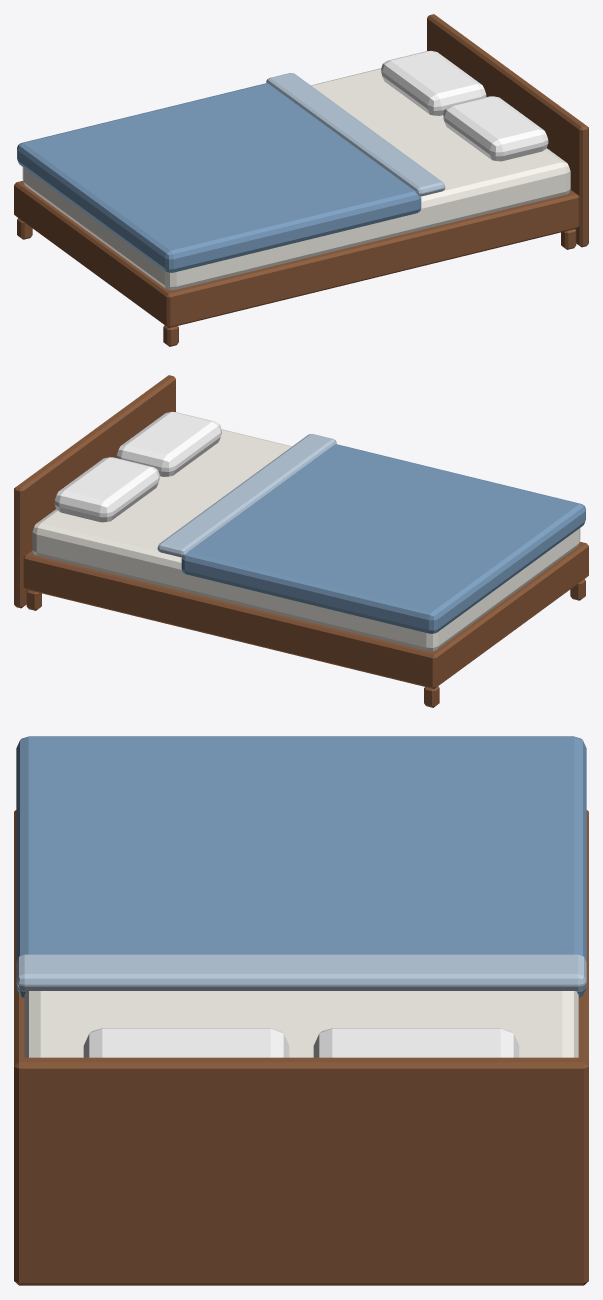
Rendered from double_bed.glb.
The picture shows the model from 3 angles, top to bottom: view 1: azimuth 30°, elevation 25°; view 2: azimuth 150°, elevation 25°; view 3: azimuth 270°, elevation 25°; orthographic projection. The views are drawn at different scales.
Parts seen in each view (by area): view 1: double_bed_Body; view 2: double_bed_Body; view 3: double_bed_Body.
Boxes of the visible parts, left/top/right/bottom form: double_bed_Body: left=14, top=14, right=588, bottom=346; double_bed_Body: left=14, top=375, right=588, bottom=707; double_bed_Body: left=14, top=736, right=588, bottom=1285.
Bounding box in the file's own units: 2.2 × 0.6 × 1.4.
